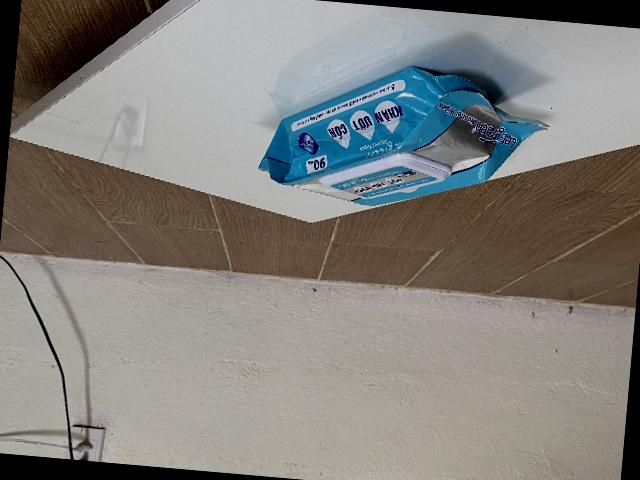Let-green_alcohol_wipes: (256, 64, 551, 204)
